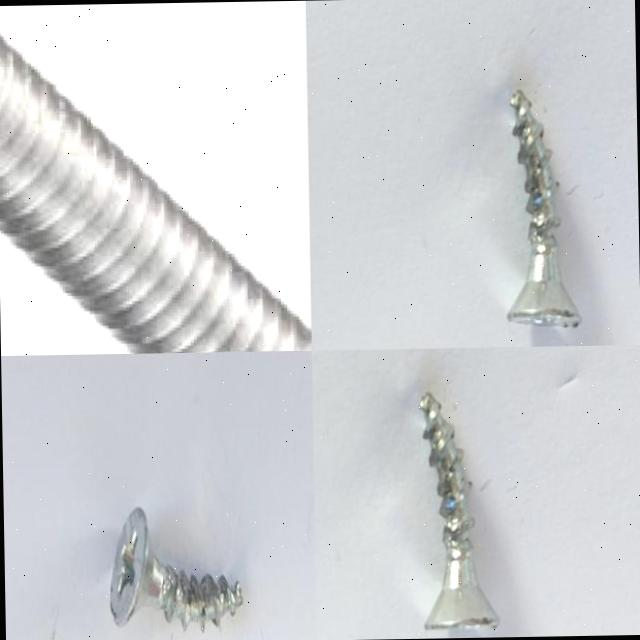Screw: (0, 36, 311, 353), (420, 391, 499, 629), (507, 89, 581, 326), (110, 507, 243, 631)
